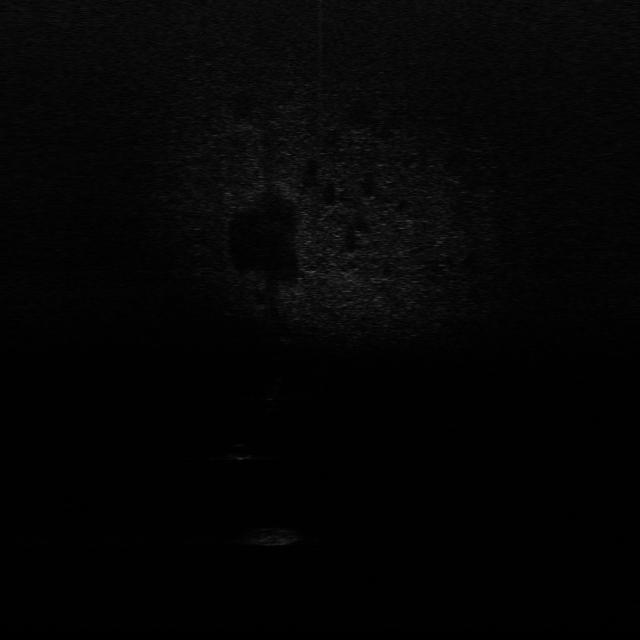ball: (227, 438, 254, 462)
circle cage: (238, 524, 321, 548)
human body: (263, 372, 288, 418)
